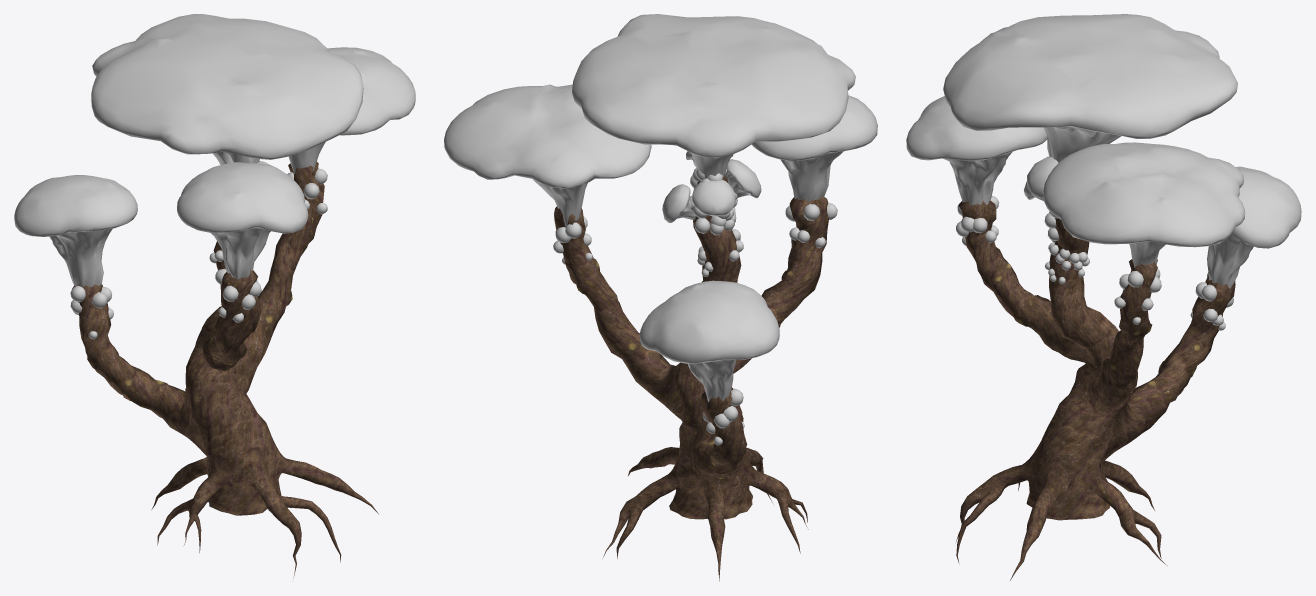
File: Shrooomtree_3.fbx
3 renders of one model, left to right at view 1: azimuth 30°, elevation 25°; view 2: azimuth 150°, elevation 25°; view 3: azimuth 270°, elevation 25°, orthographic. The views are drawn at different scales.
Visible parts, largest first — view 1: polySurface154; view 2: polySurface154; view 3: polySurface154.
Part boxes in pixels (x1,y1,x2,y2): polySurface154: (14, 14, 415, 578); polySurface154: (444, 14, 877, 581); polySurface154: (906, 14, 1301, 580).
Size of the model in its own units: 802 by 1098 by 788.
